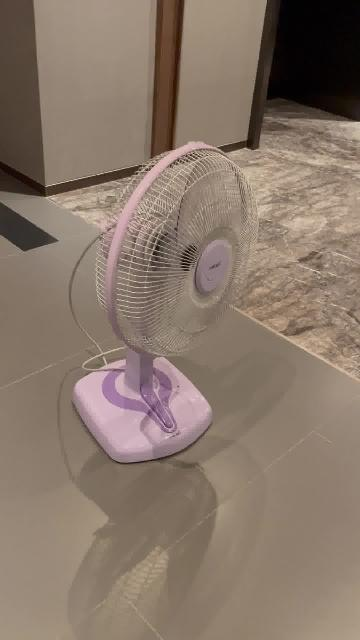Fan: (73, 142, 259, 465)
